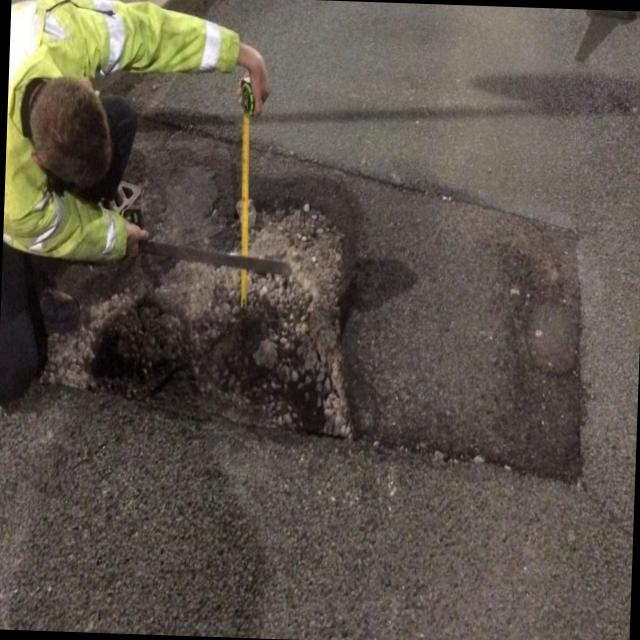Potholes: (51, 88, 640, 462)
